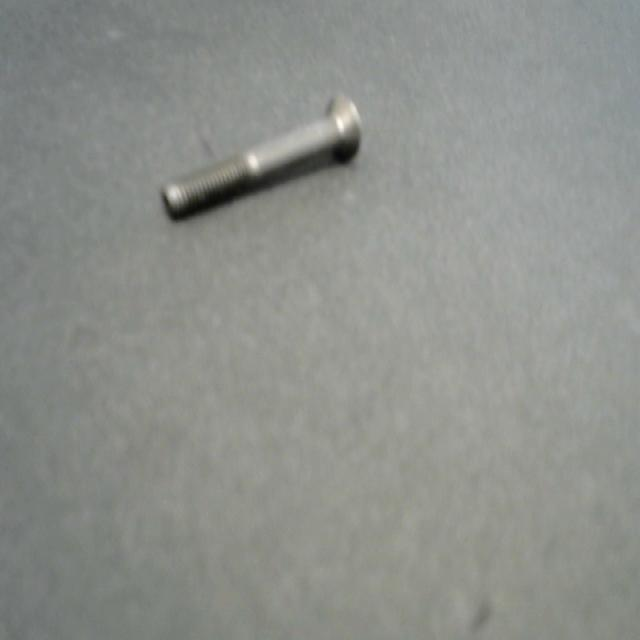FlatHeadSocketScrew: (156, 84, 367, 235)
